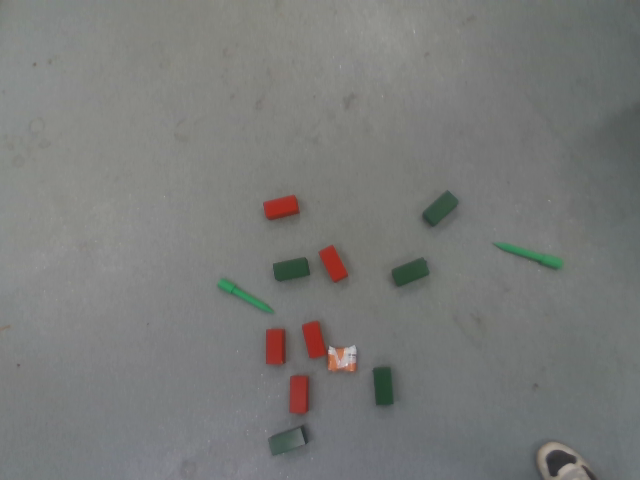Probe: (486, 237, 567, 271), (214, 275, 277, 316)
